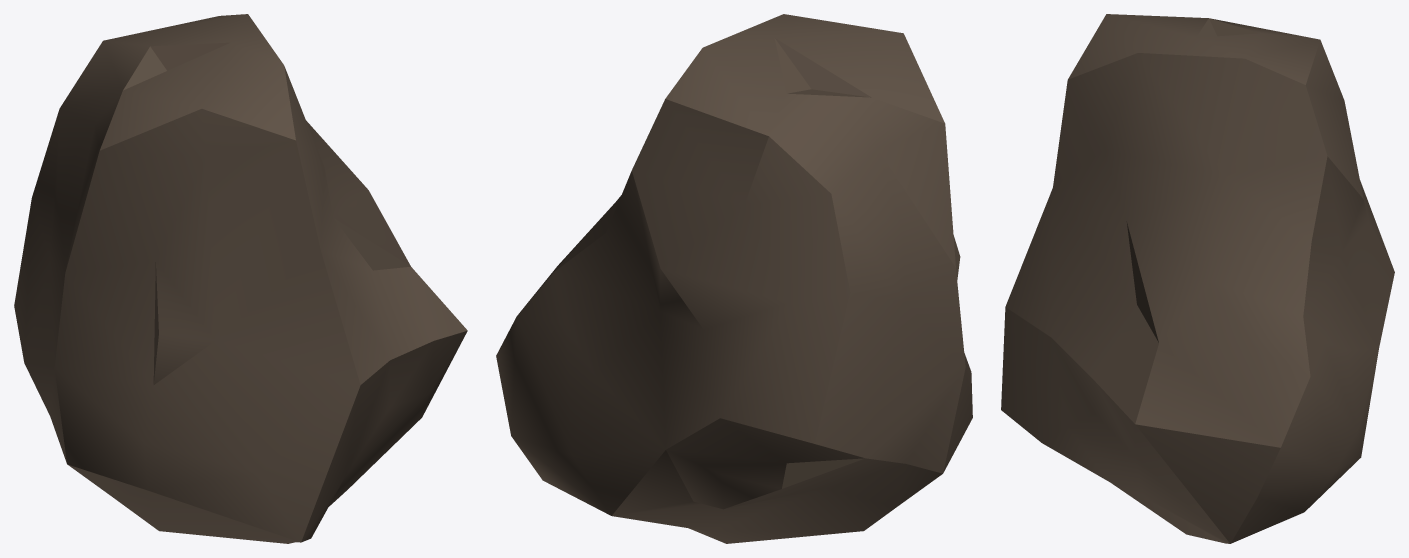
The model's file is rock_008.fbx.
3 renders of one model, left to right at view 1: azimuth 30°, elevation 25°; view 2: azimuth 150°, elevation 25°; view 3: azimuth 270°, elevation 25°, orthographic. The views are drawn at different scales.
Parts seen in each view (by area): view 1: rock.008; view 2: rock.008; view 3: rock.008.
Part boxes in pixels (x1,y1,x2,y2): rock.008: [14, 14, 467, 543]; rock.008: [496, 14, 972, 543]; rock.008: [1001, 14, 1394, 543].
Size of the model in its own units: 108 by 129 by 97.28.
